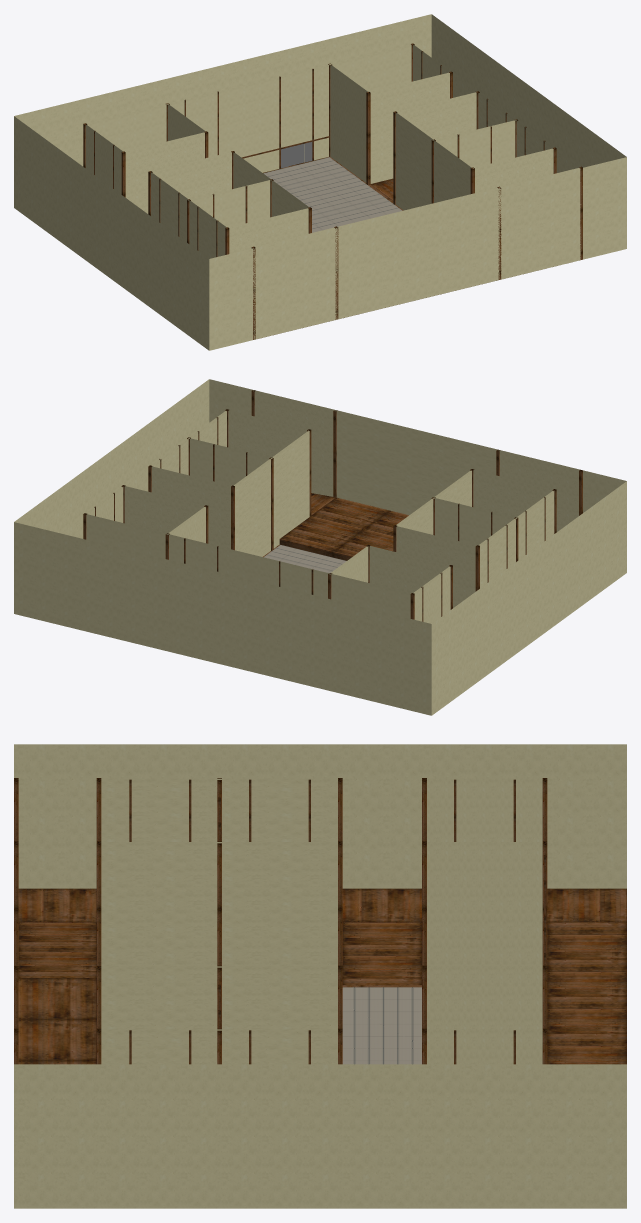
File: test_map_4.fbx
3 views of the same model, one above another, from view 1: azimuth 30°, elevation 25°; view 2: azimuth 150°, elevation 25°; view 3: azimuth 270°, elevation 25° (orthographic). The views are drawn at different scales.
Parts seen in each view (by area): view 1: Map; view 2: Map; view 3: Map.
Boxes of the visible parts, x1,y1,x2,y2 form: Map: [14, 14, 626, 350]; Map: [14, 379, 626, 715]; Map: [14, 744, 626, 1208].
Bounding box in the file's own units: 4760 × 1001 × 3854.
